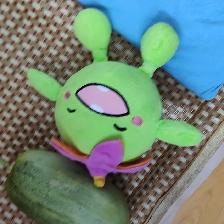gua: (9, 156, 124, 224)
